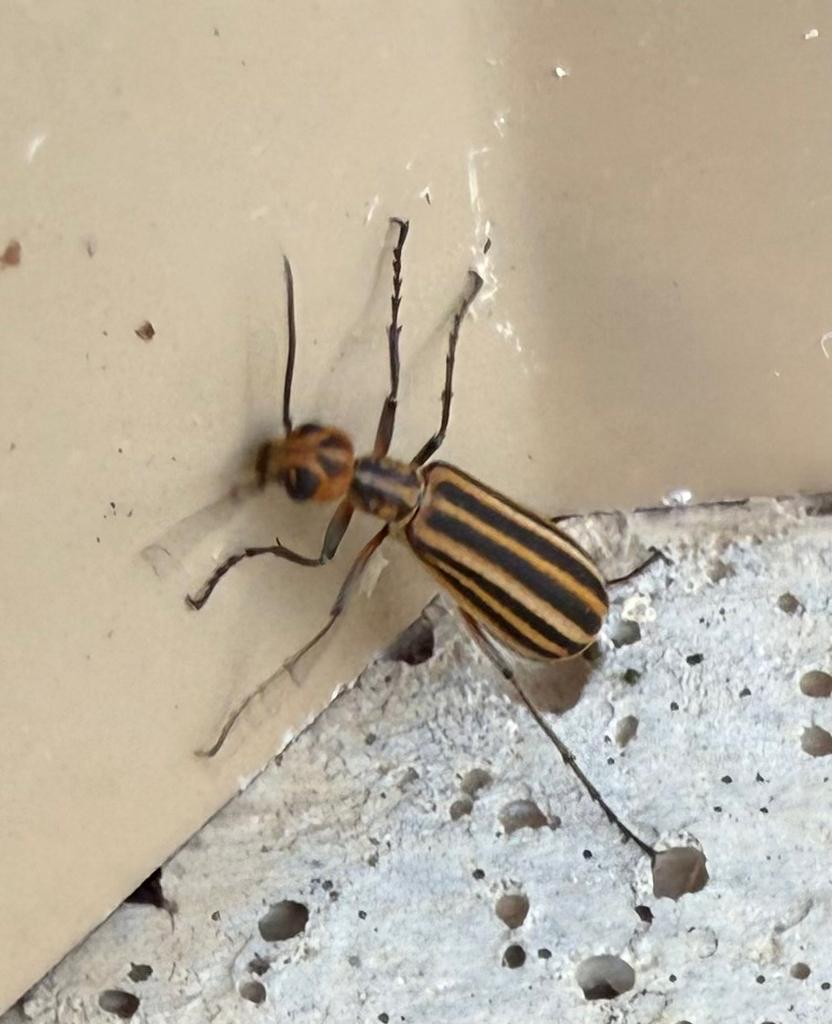blister_beetle: (132, 116, 779, 931)
